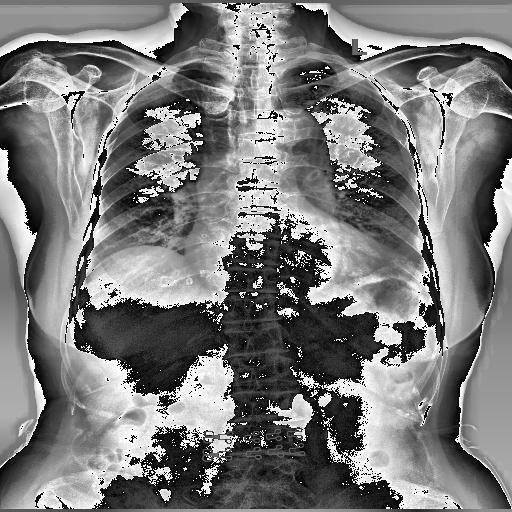0- Aortic enlargement: (262, 110, 332, 174), (269, 108, 332, 178), (259, 109, 332, 161)
11- Pleural thickening: (338, 61, 372, 80)
3- Cardiomegaly: (182, 238, 404, 302), (178, 220, 379, 284), (182, 234, 392, 267)
